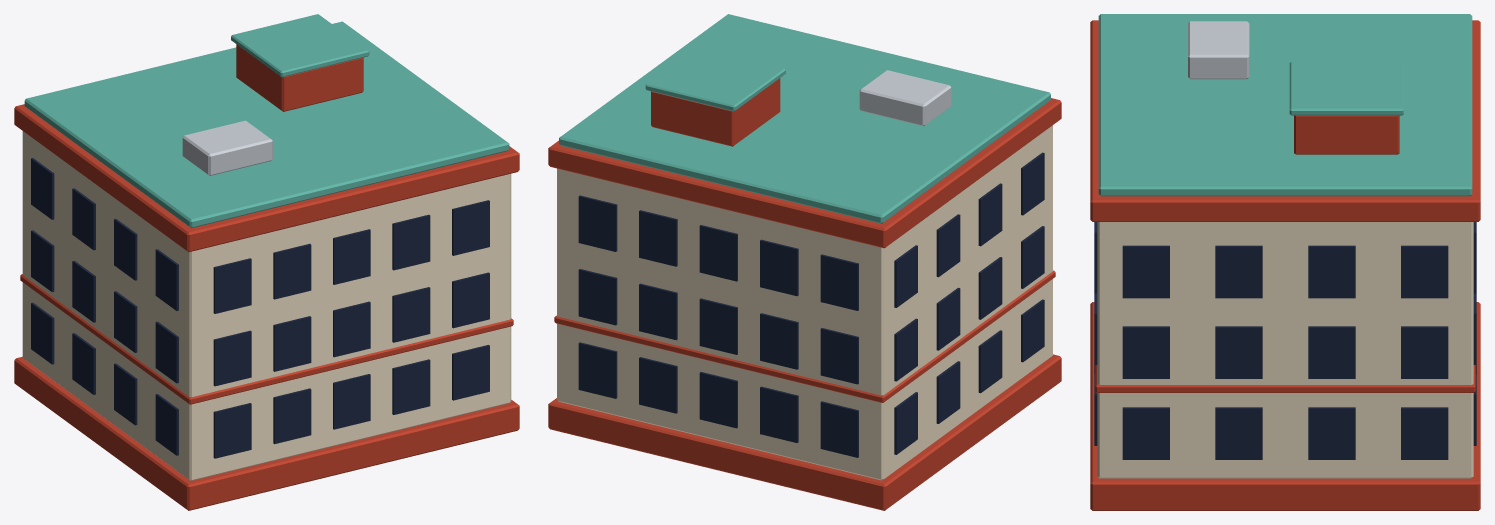
File: building_near_b.glb
The picture shows the model from 3 angles, left to right: view 1: azimuth 30°, elevation 25°; view 2: azimuth 150°, elevation 25°; view 3: azimuth 270°, elevation 25°; orthographic projection. The views are drawn at different scales.
Visible parts, largest first — view 1: body, roof, plinth, cornice, stair_roof, stair_head, belt_course, roof_unit, win_a_zp_0, win_a_zp_1, win_b_zp_0, win_b_zp_1 (+23 smaller); view 2: body, roof, plinth, cornice, stair_roof, stair_head, belt_course, roof_unit, win_a_zm_4, win_c_zm_4, win_b_zm_4, win_b_zm_3 (+23 smaller); view 3: body, roof, plinth, cornice, stair_roof, stair_head, roof_unit, belt_course, win_c_xp_1, win_c_xp_2, win_c_xp_0, win_c_xp_3 (+8 smaller).
Part boxes in pixels (box(x1,y1,x2,y2)): body: box(22, 131, 511, 480); roof: box(24, 21, 509, 228); plinth: box(14, 356, 519, 510); cornice: box(14, 104, 519, 252); stair_roof: box(231, 14, 369, 77); stair_head: box(236, 44, 363, 111); belt_course: box(20, 274, 513, 404); roof_unit: box(182, 120, 272, 175); win_a_zp_0: box(213, 403, 251, 458); win_a_zp_1: box(273, 388, 311, 444); win_b_zp_0: box(213, 330, 251, 386); win_b_zp_1: box(273, 316, 311, 371); body: box(557, 125, 1052, 480); roof: box(559, 14, 1050, 223); plinth: box(548, 354, 1061, 510); cornice: box(548, 98, 1061, 248); stair_roof: box(645, 47, 785, 111); stair_head: box(651, 78, 780, 146); belt_course: box(554, 270, 1055, 402); roof_unit: box(859, 70, 951, 126); win_a_zm_4: box(578, 342, 617, 398); win_c_zm_4: box(578, 195, 617, 251); win_b_zm_4: box(578, 269, 617, 325); win_b_zm_3: box(639, 283, 677, 340); body: box(1097, 222, 1473, 478); roof: box(1098, 14, 1472, 196); plinth: box(1090, 302, 1480, 510); cornice: box(1090, 20, 1480, 221); stair_roof: box(1289, 61, 1403, 115); stair_head: box(1294, 115, 1399, 154); roof_unit: box(1188, 21, 1249, 79); belt_course: box(1095, 365, 1475, 392); win_c_xp_1: box(1308, 245, 1355, 298); win_c_xp_2: box(1215, 245, 1262, 298); win_c_xp_0: box(1401, 245, 1448, 298); win_c_xp_3: box(1122, 245, 1169, 298).
Size of the model in its own units: 7.7 by 7.3 by 7.
